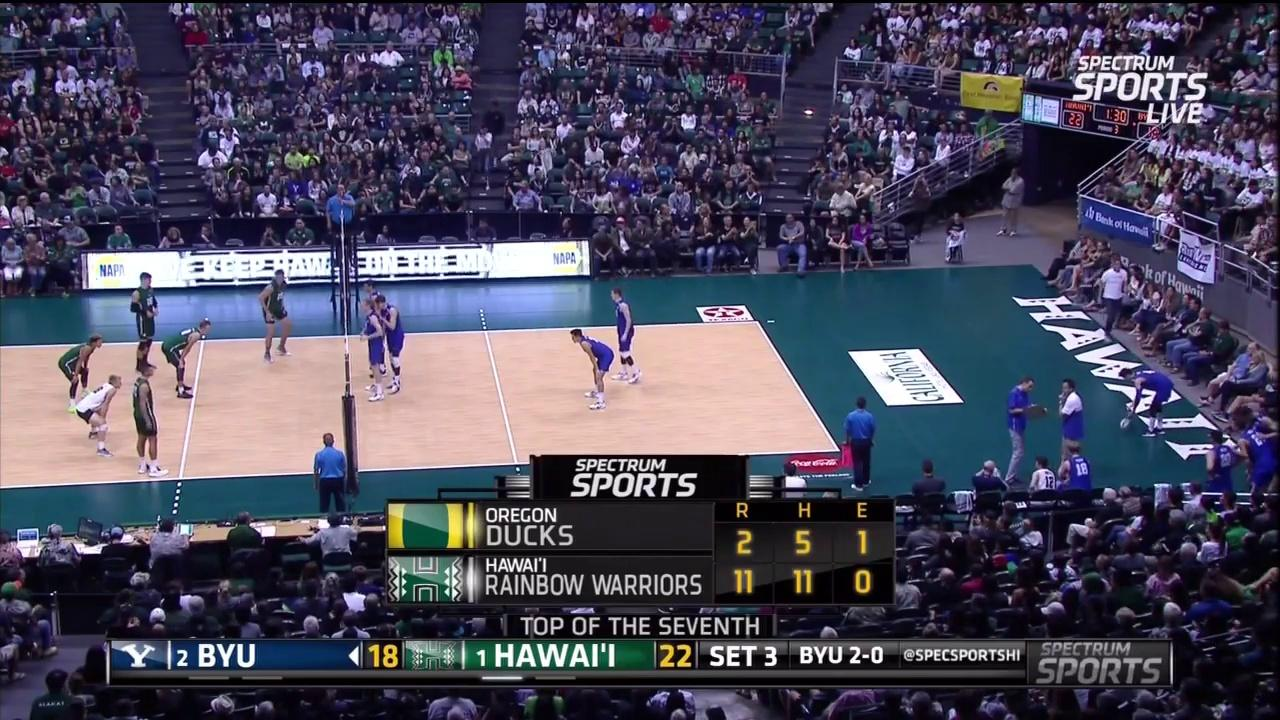player: (126, 361, 172, 479), (74, 371, 127, 456), (1116, 368, 1175, 436), (54, 326, 101, 411), (162, 316, 209, 398), (129, 272, 161, 390), (570, 329, 612, 409), (259, 268, 293, 361), (359, 298, 386, 409), (376, 295, 404, 396), (363, 280, 389, 383), (610, 289, 638, 384)
refree: (840, 400, 875, 493), (311, 431, 348, 512), (327, 179, 357, 249)
